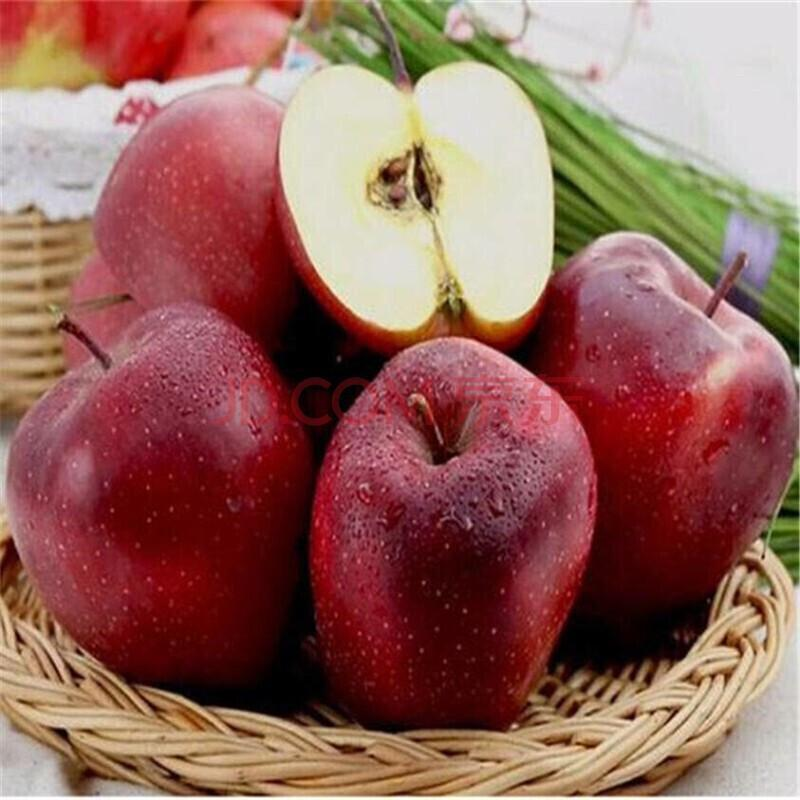apple: (9, 307, 315, 699), (309, 337, 602, 737), (521, 236, 797, 659), (74, 75, 297, 353)
